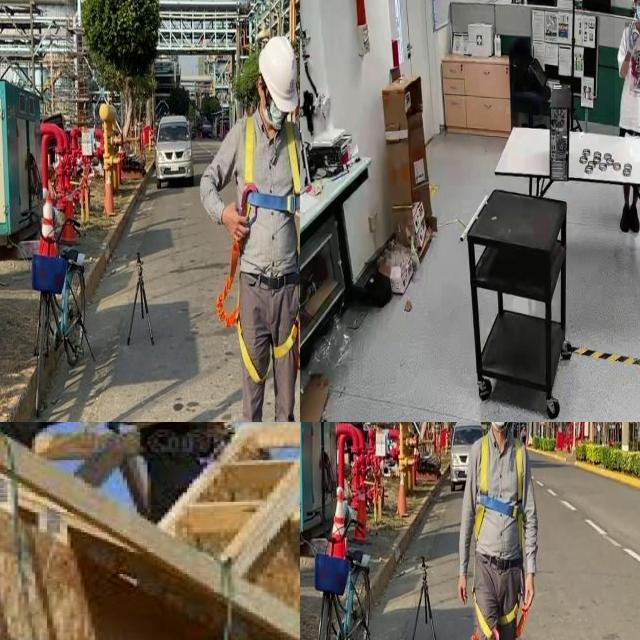Harness: (225, 109, 300, 360), (475, 435, 527, 552)
face_mask: (634, 0, 640, 28)
hand_glove: (625, 22, 640, 61)
person: (614, 0, 640, 140)
shoes: (627, 201, 640, 236), (621, 200, 631, 232)
